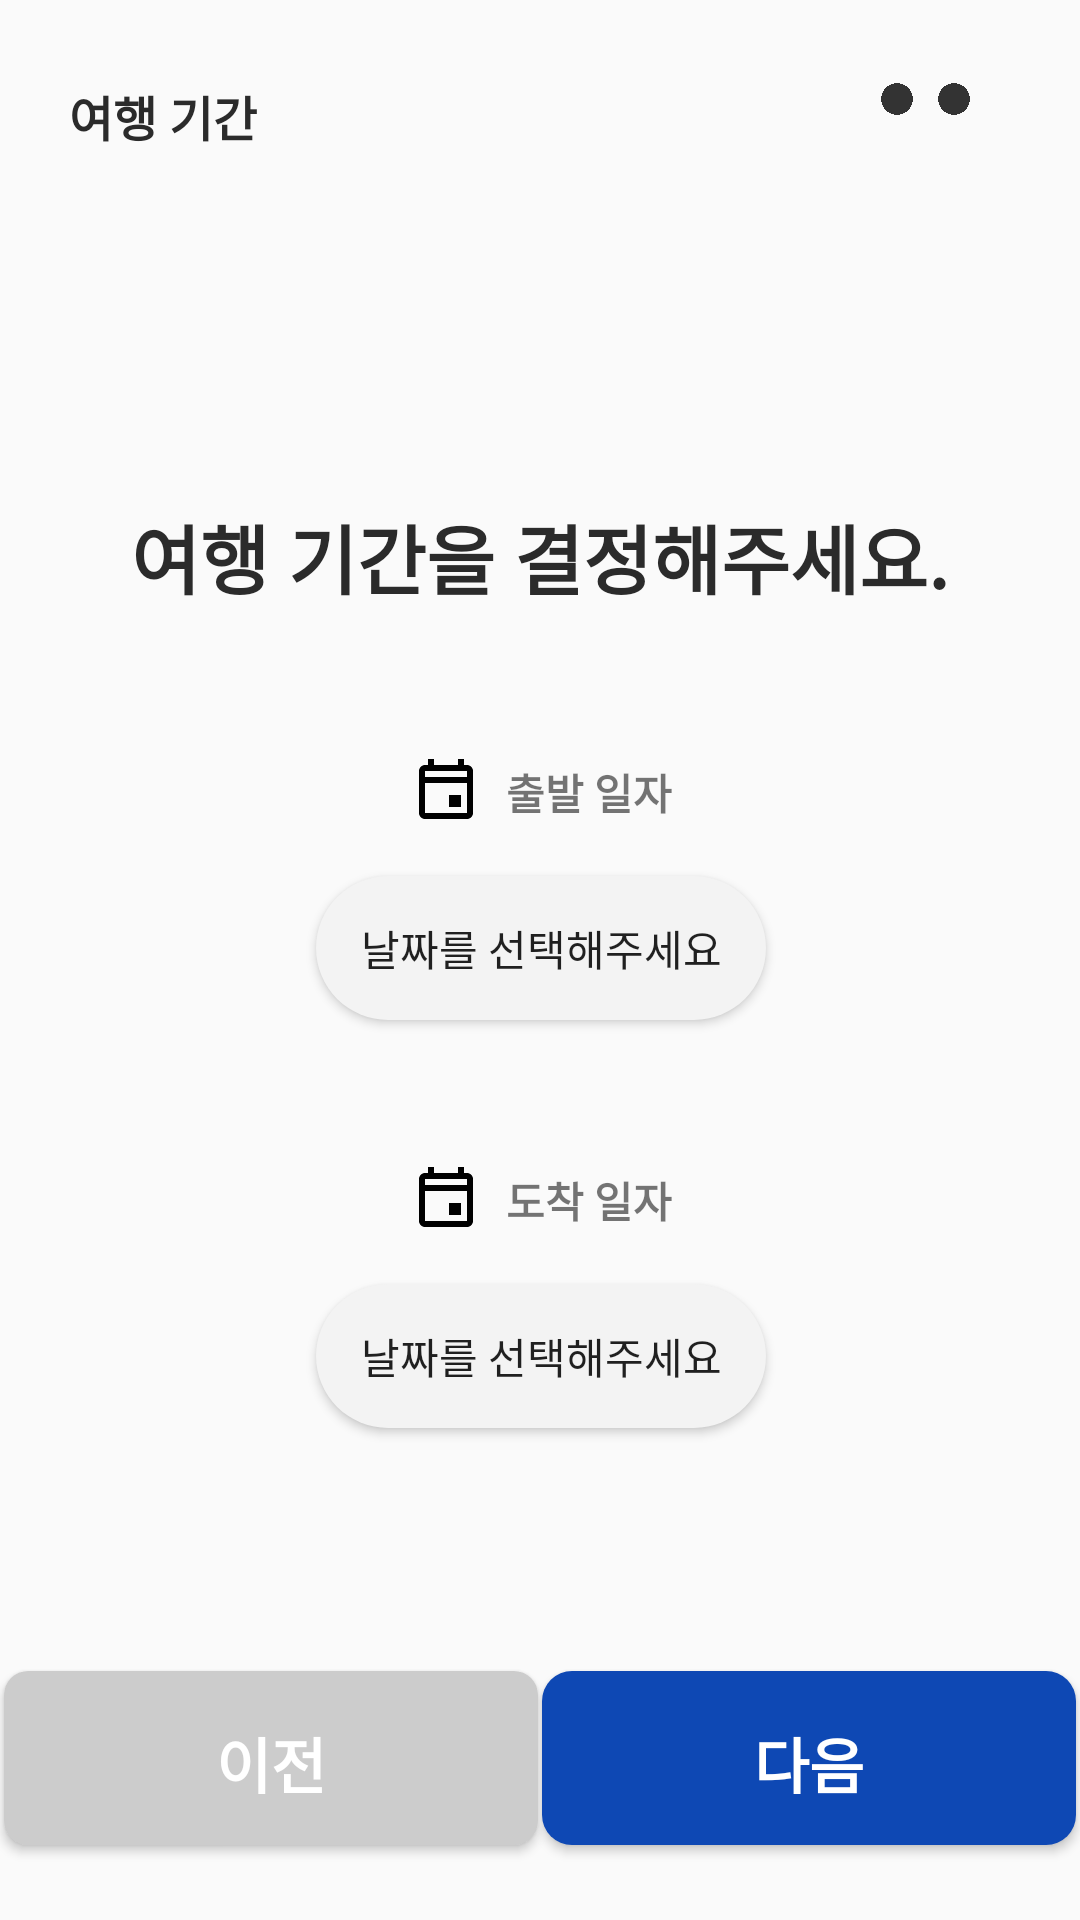

Icons on this 1080px x 1920px Android screen, each with the point to tap as point (x, y):
calendar: point (446, 789), point (446, 1197)
